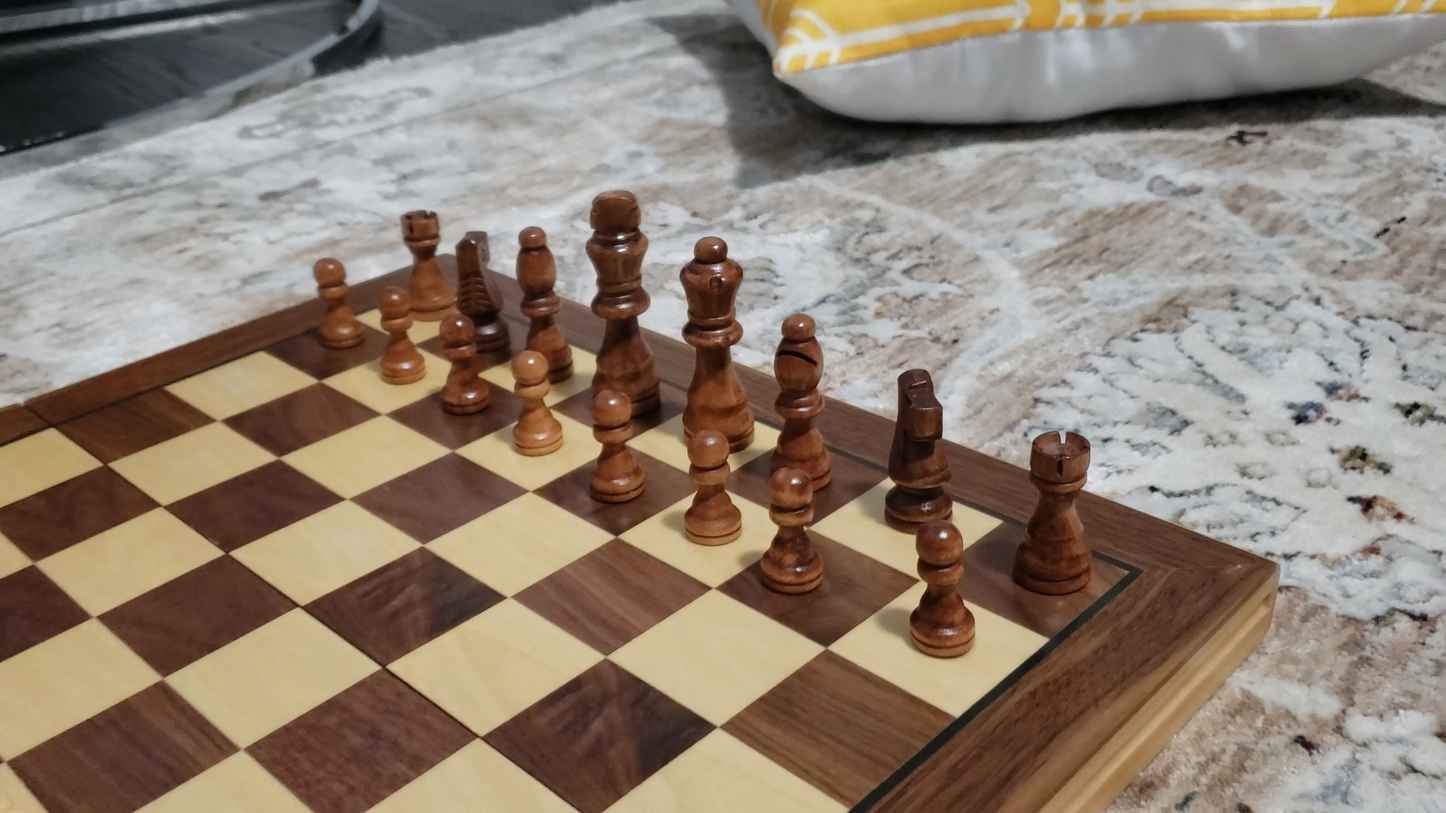black-bishop: (773, 309, 831, 491), (513, 224, 573, 381)
black-king: (582, 185, 661, 430)
black-knight: (885, 366, 950, 528), (451, 228, 509, 355)
black-pawn: (908, 518, 975, 659), (759, 462, 824, 596), (682, 426, 740, 547), (587, 387, 644, 504), (509, 347, 561, 458), (437, 311, 491, 416), (311, 254, 363, 349), (374, 288, 424, 385)
black-queen: (677, 230, 754, 454)
black-rook: (1012, 427, 1094, 596), (400, 208, 452, 321)
